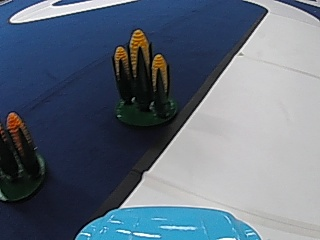corn: (110, 25, 179, 129), (1, 109, 45, 202)
